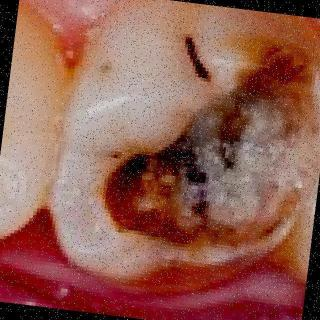cavities: (73, 8, 313, 296)
